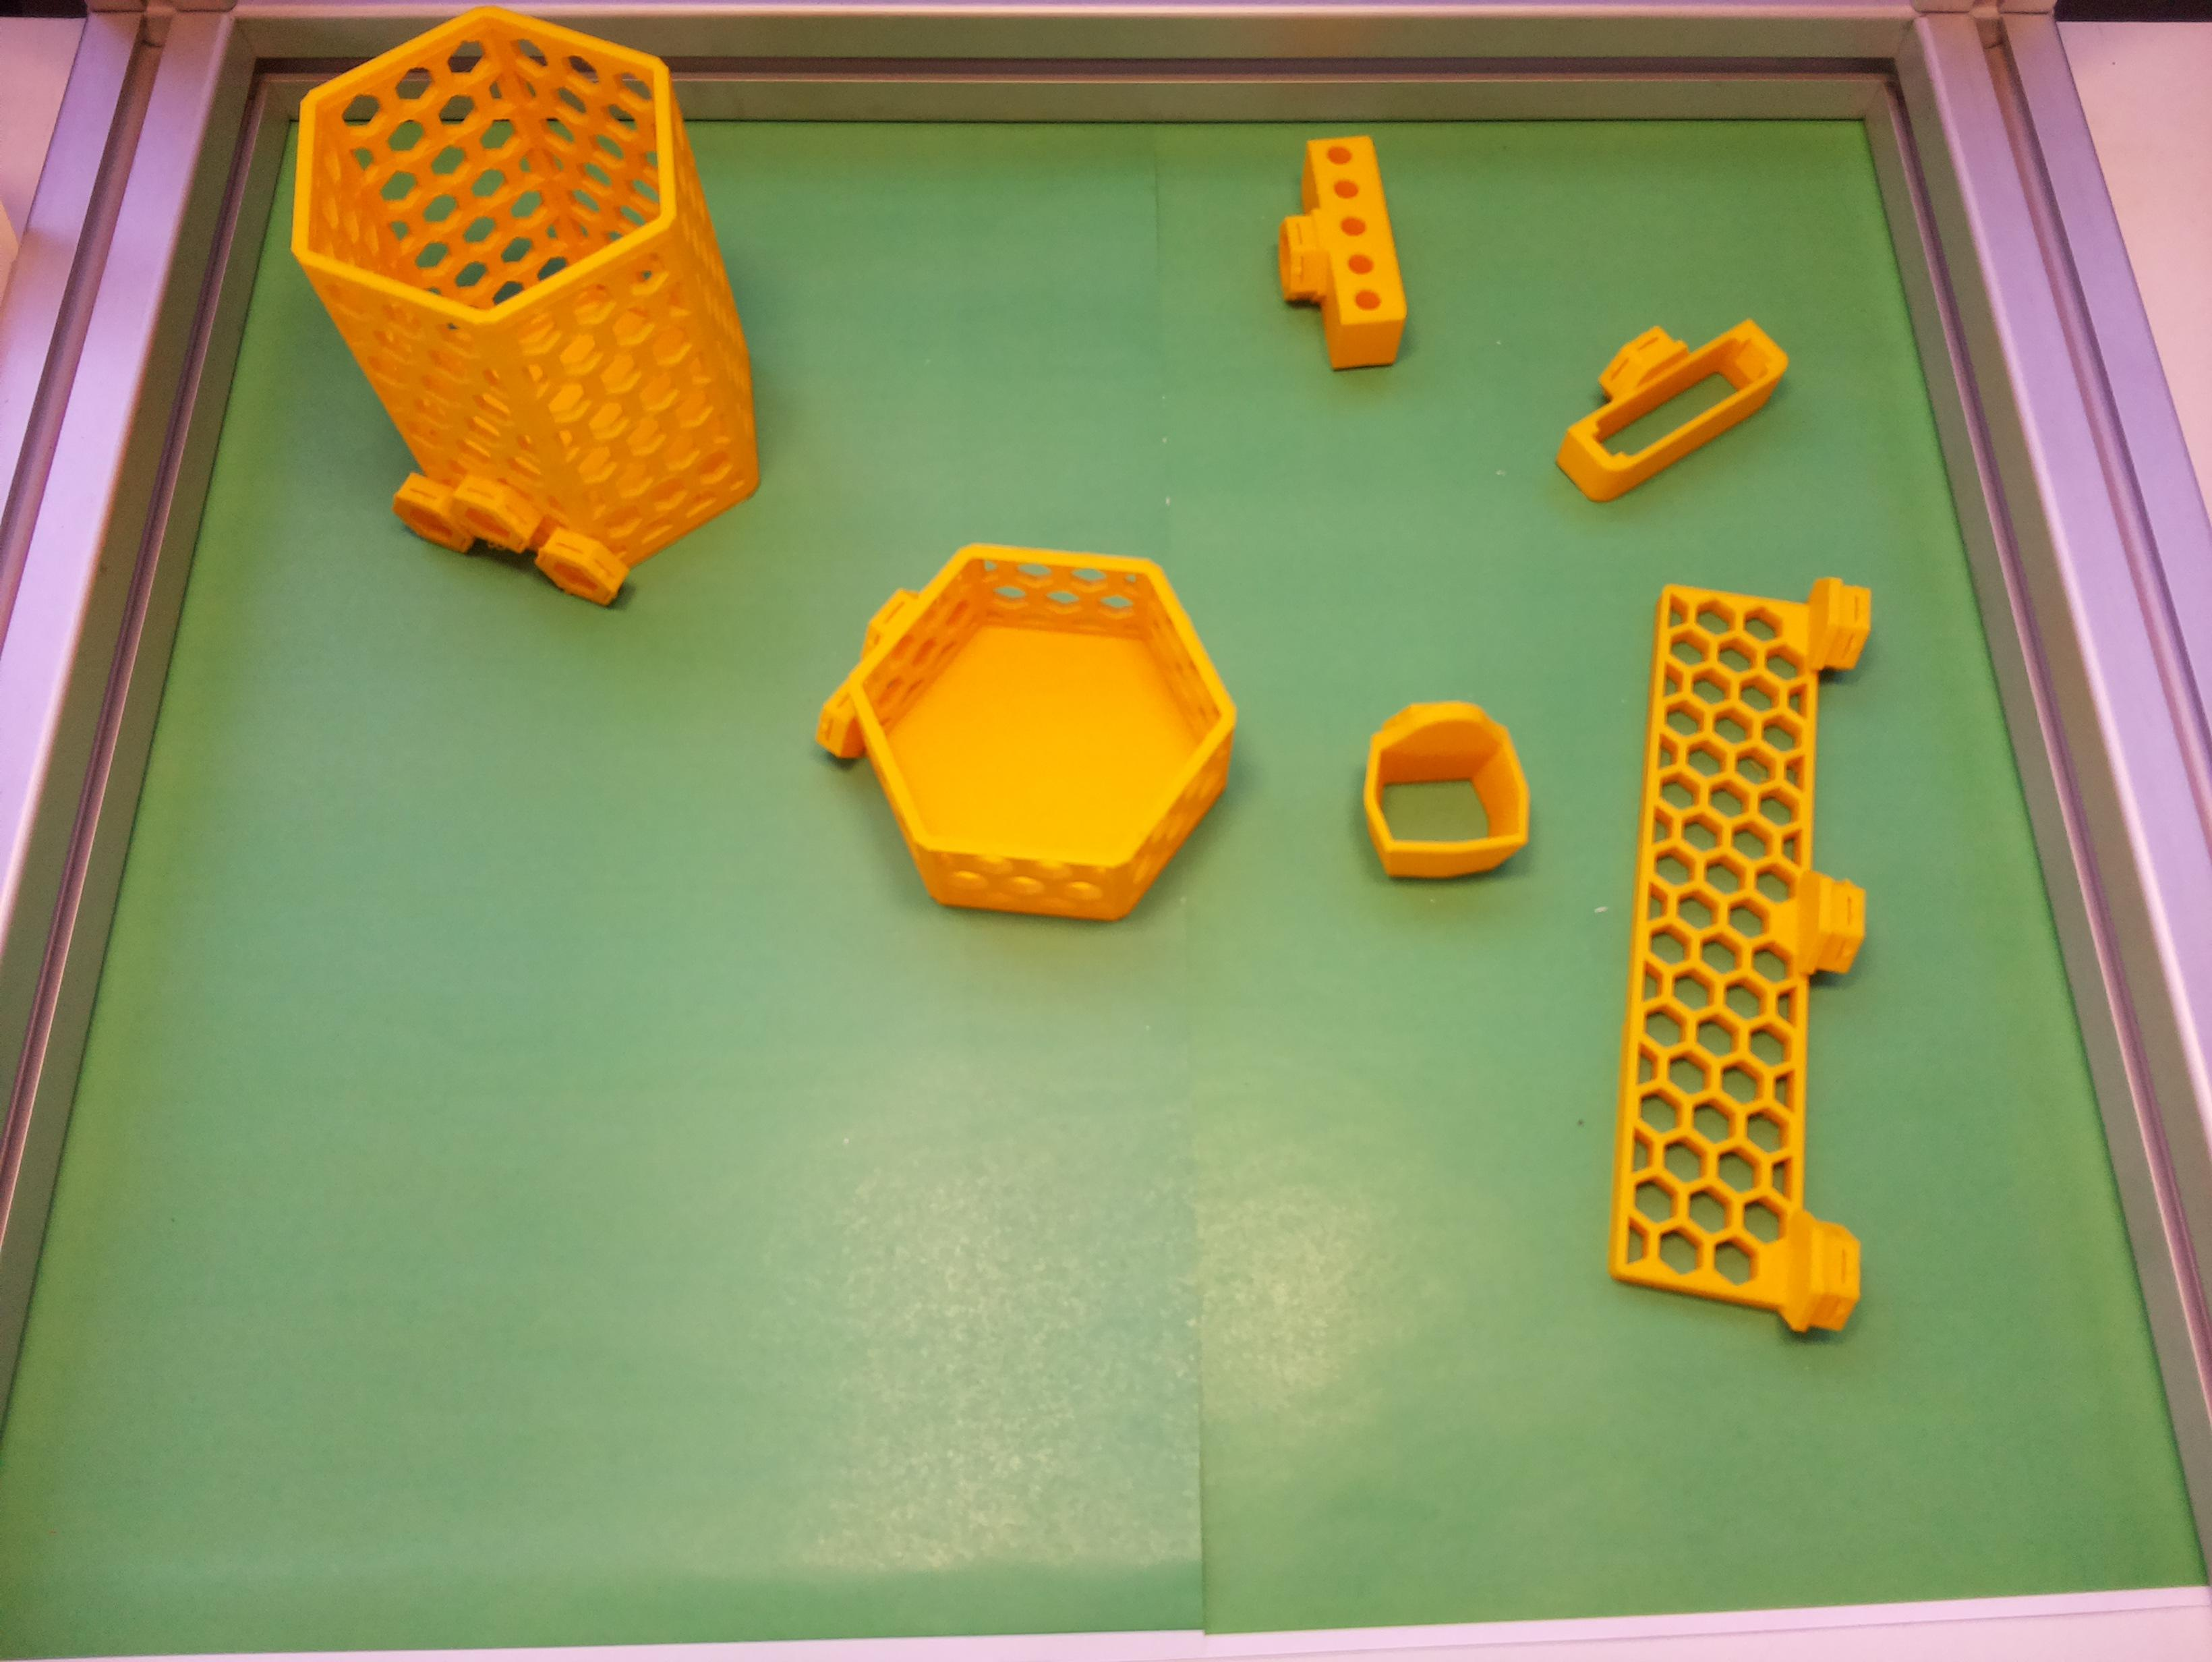bit_holder: (1254, 129, 1416, 382)
bottle_holder: (773, 456, 1315, 1000)
cutter_holder: (1524, 276, 1802, 515)
scissor_holder: (1351, 691, 1538, 887)
tool_holder: (1610, 574, 1872, 1334)
